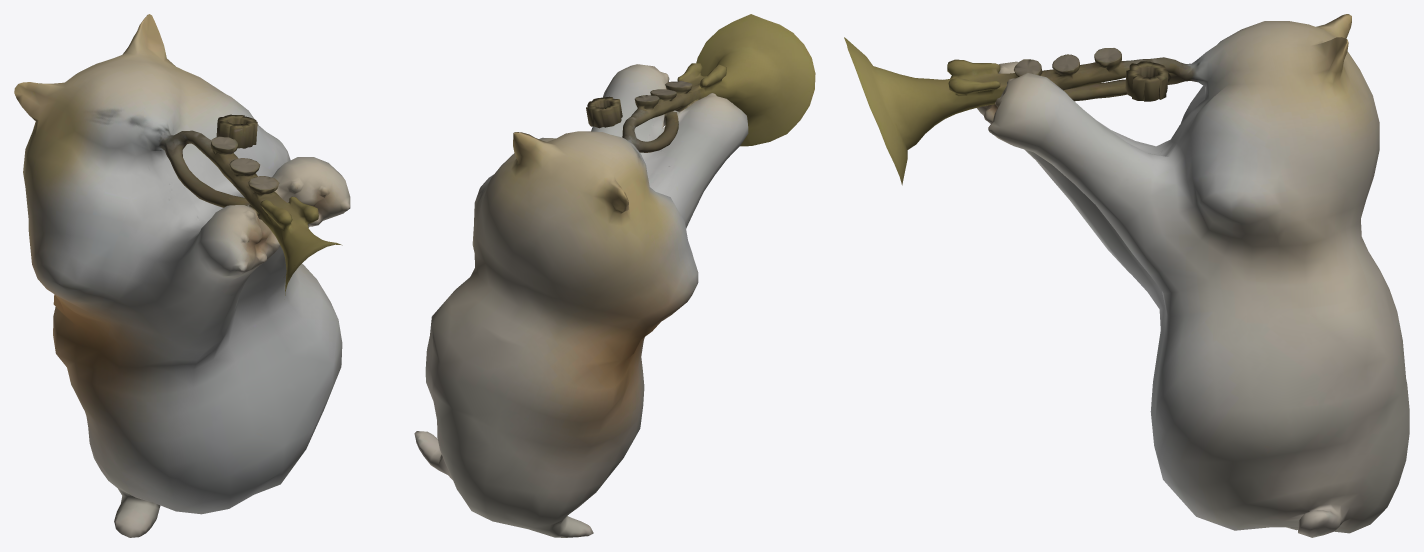
File: 019ef542-4448-7d61-acba-ba50dae1ae5e.glb
3 renders of one model, left to right at view 1: azimuth 30°, elevation 25°; view 2: azimuth 150°, elevation 25°; view 3: azimuth 270°, elevation 25°, orthographic. The views are drawn at different scales.
Parts seen in each view (by area): view 1: tripo_node_c0a66fcd-836c-467f-9404-07b5be00fb4d; view 2: tripo_node_c0a66fcd-836c-467f-9404-07b5be00fb4d; view 3: tripo_node_c0a66fcd-836c-467f-9404-07b5be00fb4d.
Boxes of the visible parts, x1,y1,x2,y2 form: tripo_node_c0a66fcd-836c-467f-9404-07b5be00fb4d: (14,14,350,537); tripo_node_c0a66fcd-836c-467f-9404-07b5be00fb4d: (414,14,815,537); tripo_node_c0a66fcd-836c-467f-9404-07b5be00fb4d: (844,14,1409,537).
Size of the model in its own units: 0.6113 by 0.9863 by 0.998.
1 material, 1 textured.
